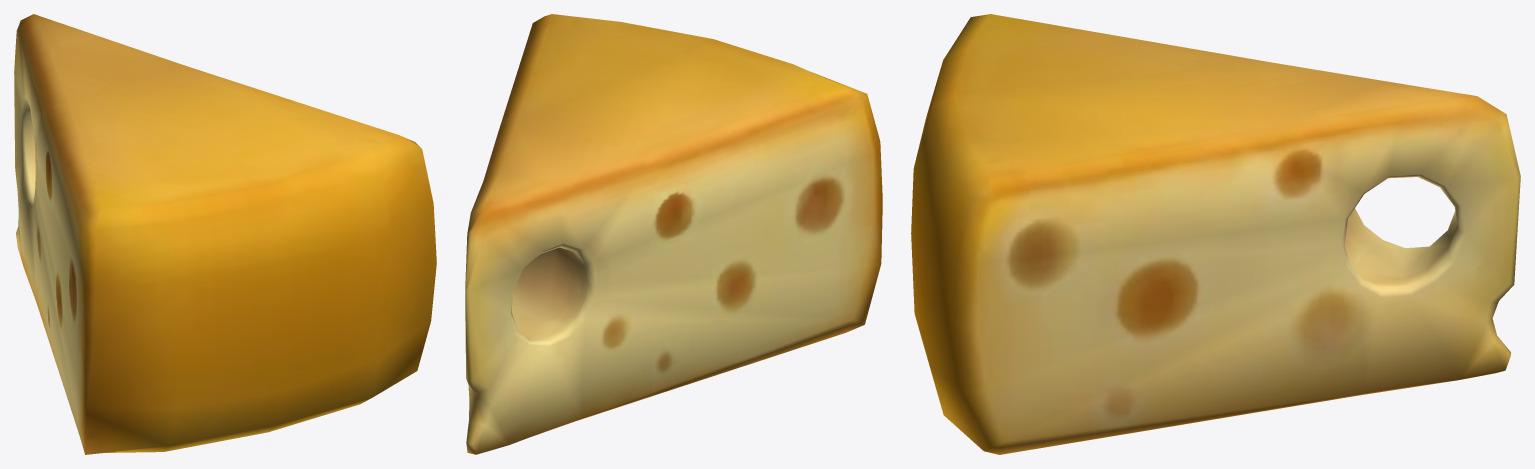
The model's file is ingredient-cheese.glb.
The picture shows the model from 3 angles, left to right: view 1: azimuth 30°, elevation 25°; view 2: azimuth 150°, elevation 25°; view 3: azimuth 270°, elevation 25°; orthographic projection. The views are drawn at different scales.
Parts seen in each view (by area): view 1: Object_2; view 2: Object_2; view 3: Object_2.
Boxes of the visible parts, x1,y1,x2,y2 form: Object_2: [14, 14, 436, 454]; Object_2: [465, 14, 882, 454]; Object_2: [911, 14, 1520, 454].
Bounding box in the file's own units: 0.8137 × 0.5566 × 1.1.
Materials: 1 (1 with a texture image).
